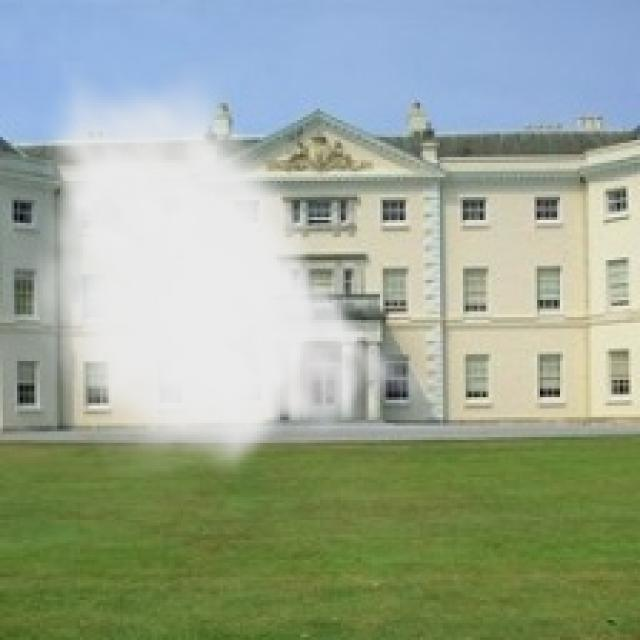smoke: (23, 57, 440, 483)
